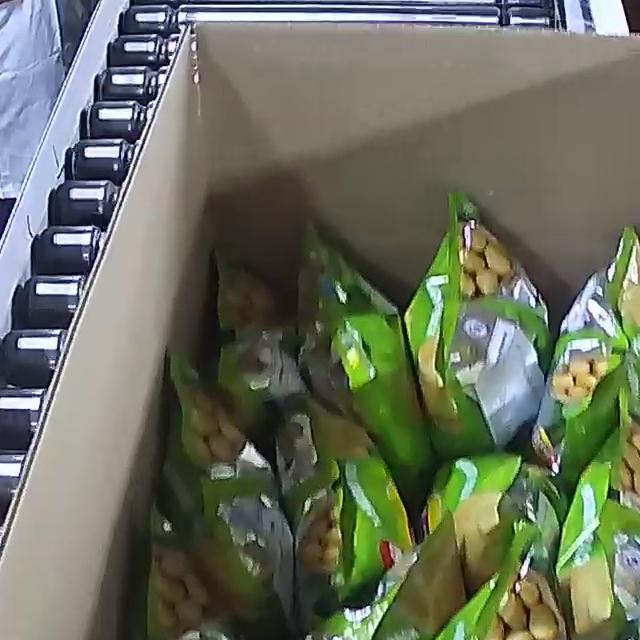yogurt: (104, 190, 640, 640)
